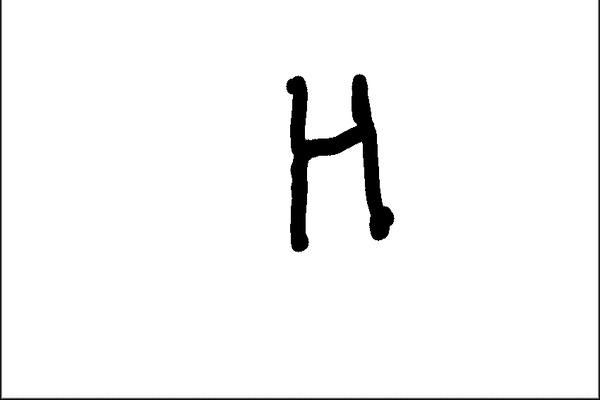H: (274, 67, 406, 254)
